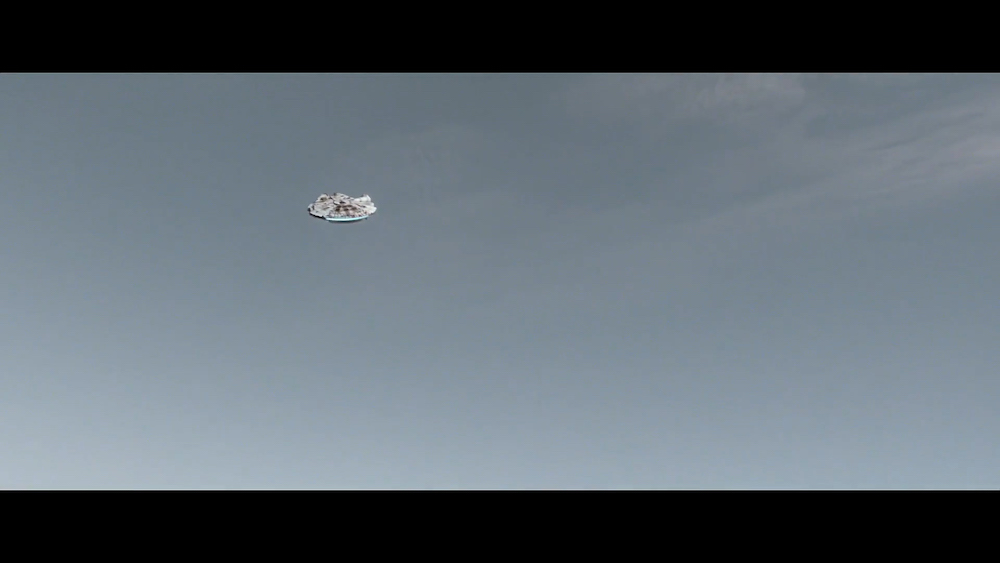Millennium Falcon: (308, 193, 378, 227)
